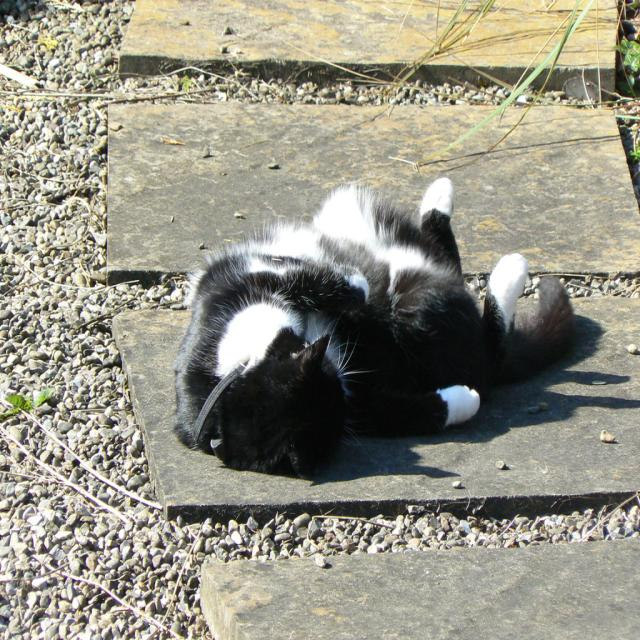Cat: (170, 176, 576, 479)
